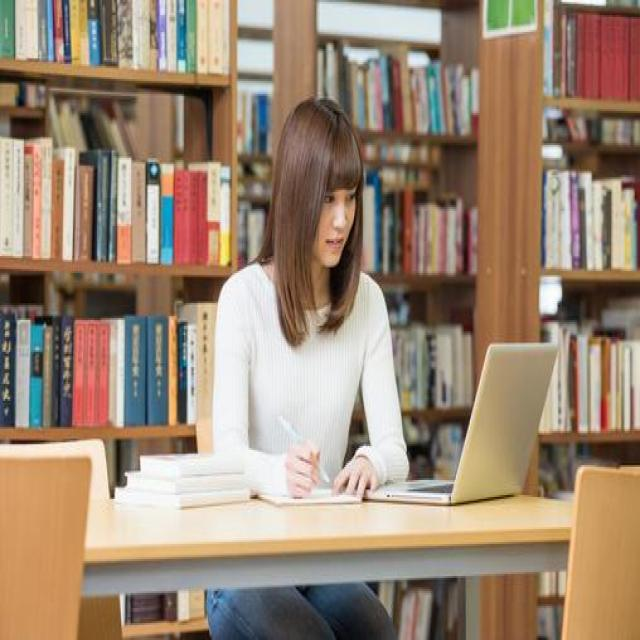studying-person: (103, 82, 565, 523)
